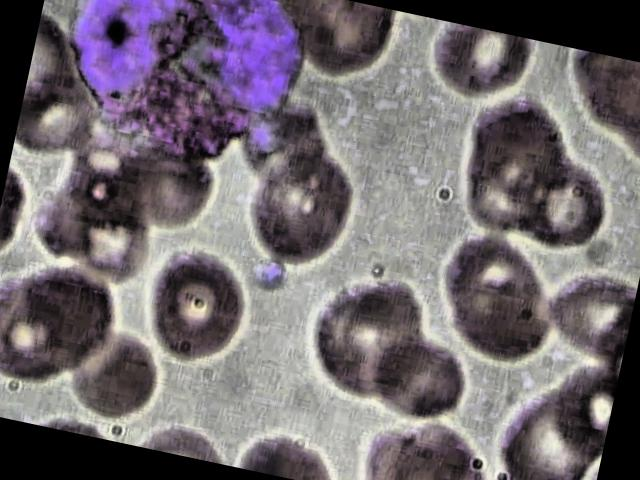Platelets: (248, 257, 292, 296)
RBC: (296, 268, 444, 414), (231, 134, 379, 280), (137, 243, 260, 370), (404, 17, 545, 112), (448, 268, 562, 376), (364, 326, 478, 434), (61, 316, 174, 424), (509, 153, 622, 260)
WBC: (43, 0, 319, 182)
